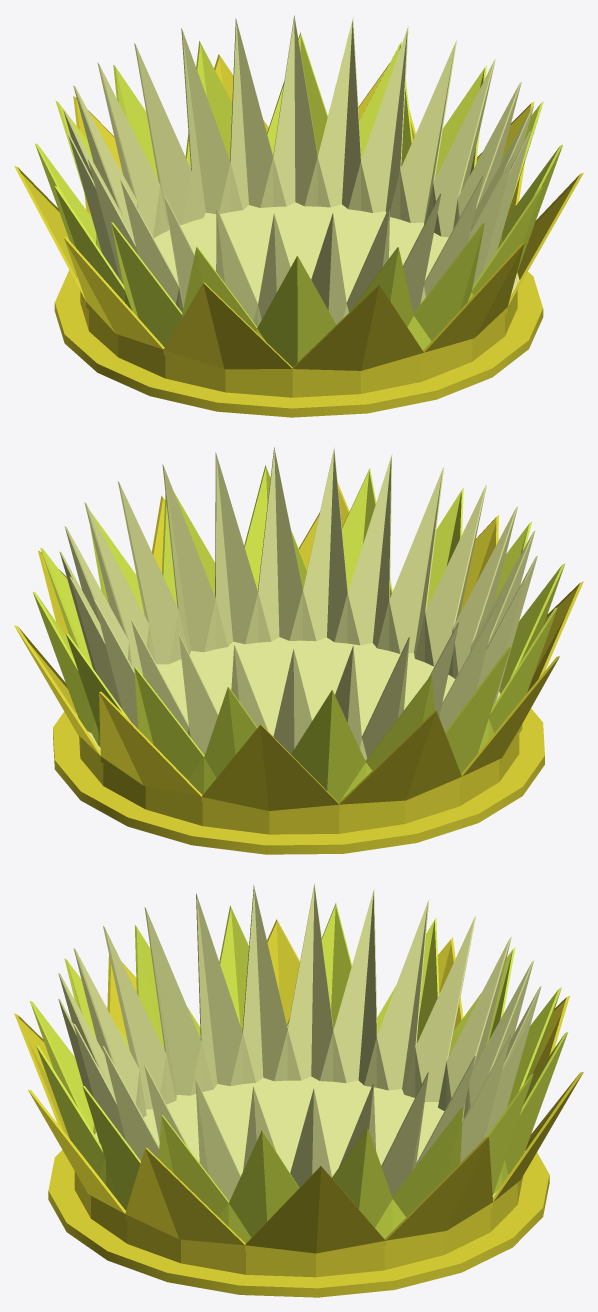
File: portal_000012.obj
3 views of the same model, one above another, from view 1: azimuth 30°, elevation 25°; view 2: azimuth 150°, elevation 25°; view 3: azimuth 270°, elevation 25° (orthographic). The views are drawn at different scales.
Parts seen in each view (by area): view 1: Cylinder.001, pCylinder1, Cylinder; view 2: Cylinder.001, pCylinder1, Cylinder; view 3: Cylinder.001, pCylinder1, Cylinder.
Part boxes in pixels (box(x1,y1,x2,y2)): Cylinder.001: box(63, 15, 533, 326); pCylinder1: box(14, 54, 583, 417); Cylinder: box(35, 32, 562, 367); Cylinder.001: box(59, 447, 537, 760); pCylinder1: box(14, 483, 583, 854); Cylinder: box(33, 465, 565, 802); Cylinder.001: box(58, 884, 541, 1201); pCylinder1: box(14, 919, 583, 1297); Cylinder: box(30, 903, 567, 1243).
Bounding box in the file's own units: 7.43 × 2.9 × 7.24.
3 materials, 3 textured.
